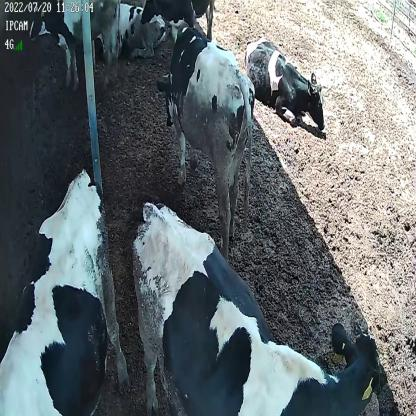cow: (131, 199, 389, 416), (156, 26, 255, 260), (244, 32, 327, 135), (29, 3, 118, 92), (140, 1, 230, 46)
